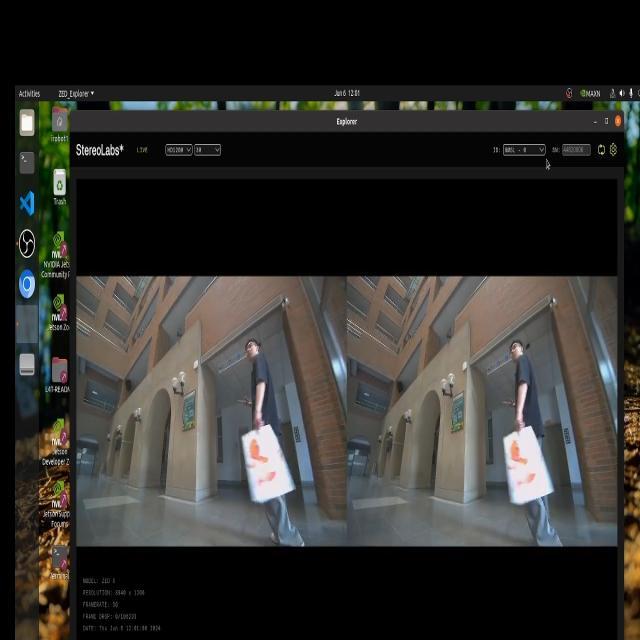red: (499, 425, 527, 482), (244, 435, 278, 477)
